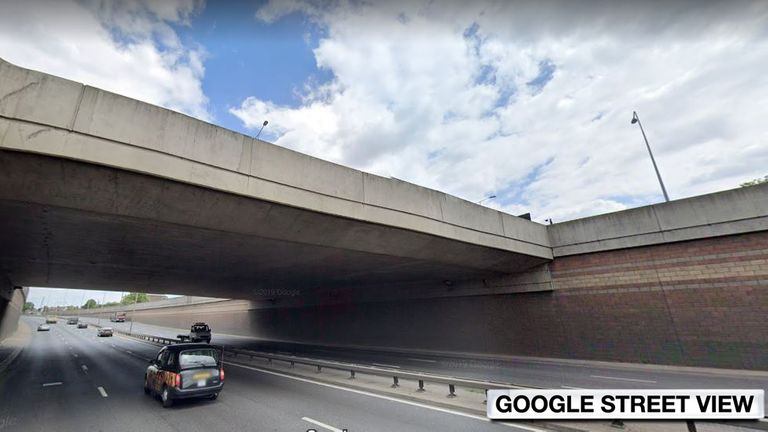bridge: (1, 58, 568, 305)
